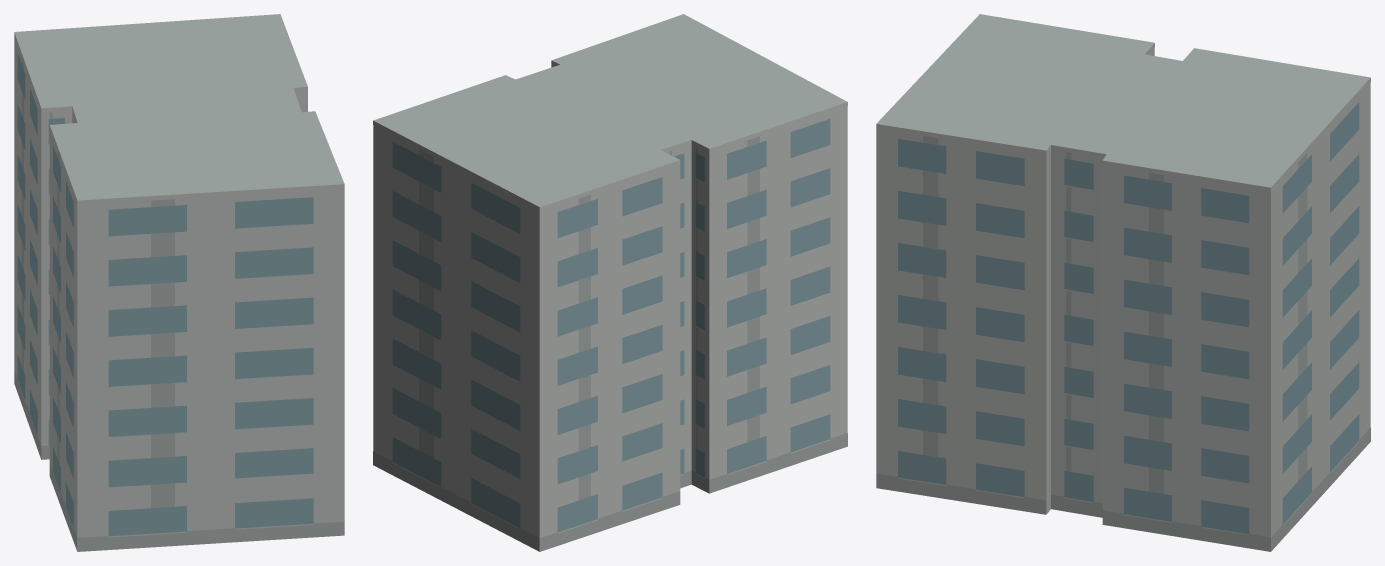
File: survey-upis-32966163.glb
3 views of the same model, side by side, from view 1: azimuth 30°, elevation 25°; view 2: azimuth 150°, elevation 25°; view 3: azimuth 270°, elevation 25° (orthographic). The views are drawn at different scales.
Visible parts, largest first — view 1: survey-upis-32966163.tmp; view 2: survey-upis-32966163.tmp; view 3: survey-upis-32966163.tmp.
Part boxes in pixels (x1,y1,x2,y2): survey-upis-32966163.tmp: (14,14,344,551); survey-upis-32966163.tmp: (373,14,847,551); survey-upis-32966163.tmp: (876,14,1370,551).
Bounding box in the file's own units: 19.24 × 18.8 × 23.15.
